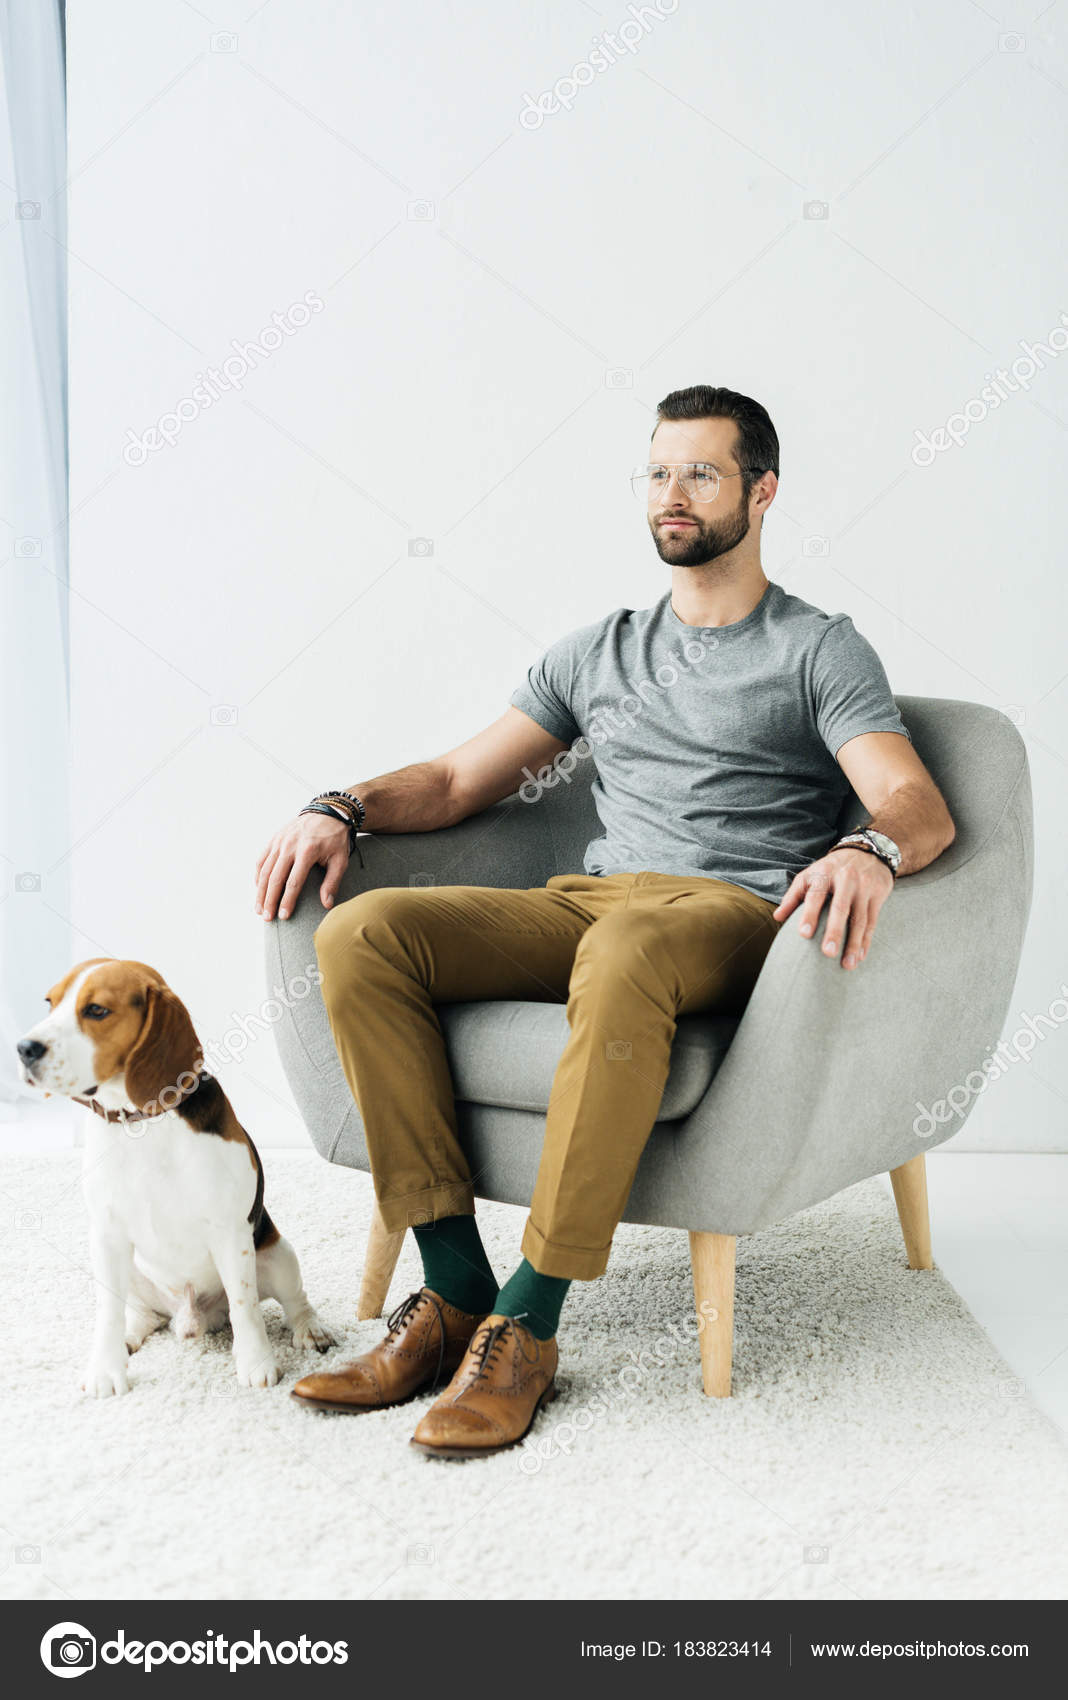chairs: (268, 681, 1030, 1411)
